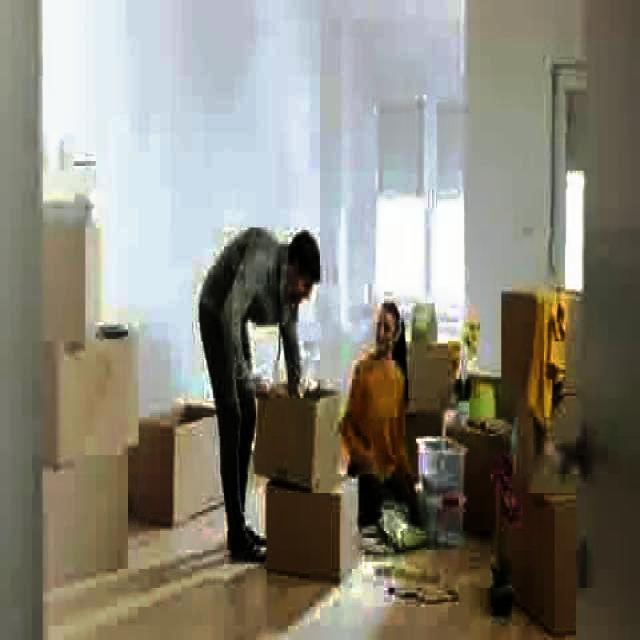Box: (44, 450, 134, 586), (254, 382, 334, 478), (61, 350, 132, 458), (268, 478, 356, 564), (152, 408, 222, 516), (48, 225, 108, 332)
